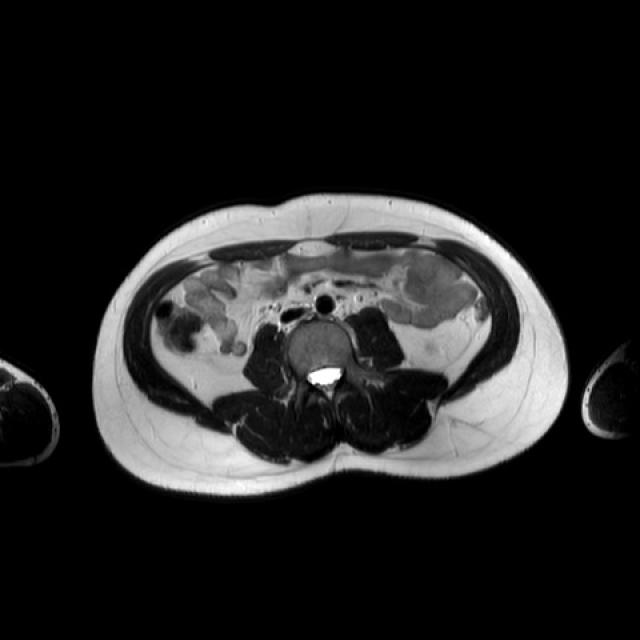sol: (426, 340, 439, 354)
